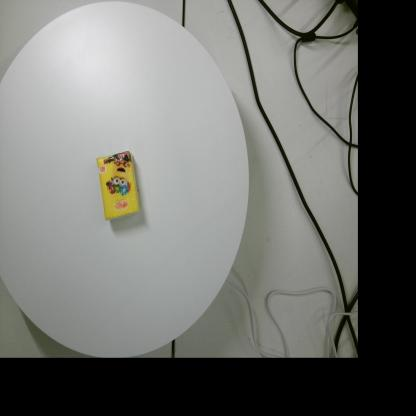Tissue: (96, 150, 140, 221)
